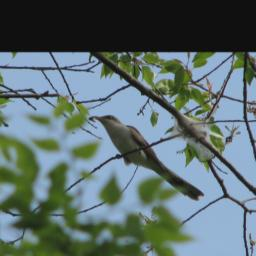Cuckoo: (90, 113, 205, 198)
